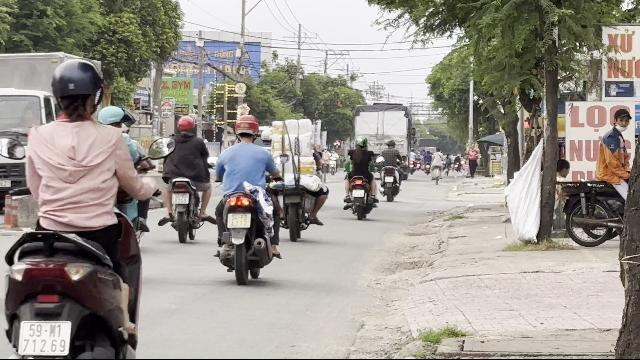helmet: (49, 57, 105, 119), (232, 114, 260, 142), (97, 104, 125, 130), (176, 115, 196, 135)
licenseplate: (18, 320, 70, 354), (228, 213, 250, 227), (172, 193, 188, 204)
motorcyclist: (0, 56, 160, 356), (210, 112, 282, 283), (158, 114, 212, 242)
